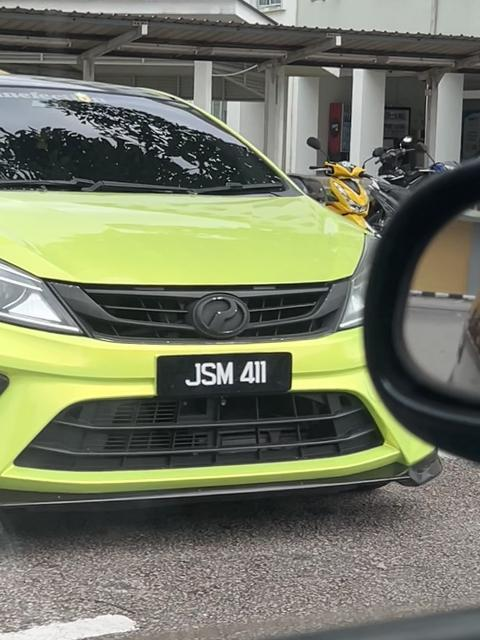JSM411: (154, 353, 296, 399)
License_Plate: (154, 353, 296, 399)
car: (1, 73, 445, 514)
